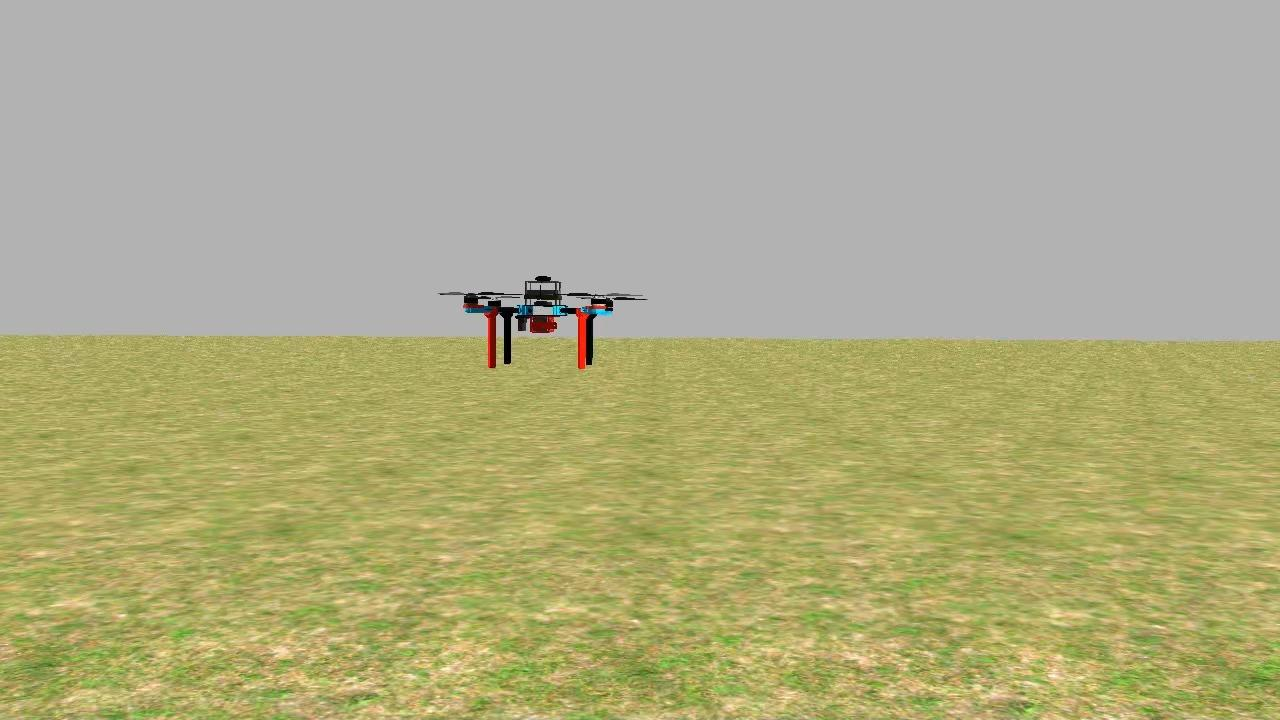UAV: (454, 272, 621, 370)
